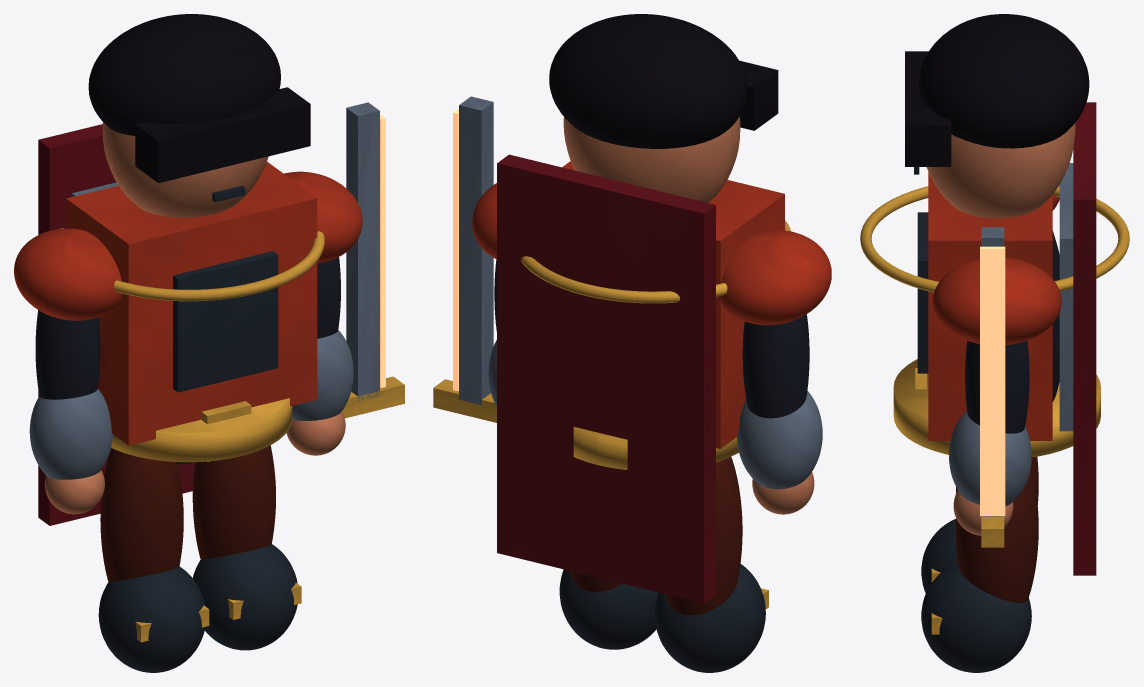
Rendered from Advanced.glb.
The picture shows the model from 3 angles, left to right: view 1: azimuth 30°, elevation 25°; view 2: azimuth 150°, elevation 25°; view 3: azimuth 270°, elevation 25°; orthographic projection. The views are drawn at different scales.
Parts seen in each view (by area): view 1: ChestPlate, Hair, ChestInset, HairFringe, Leg, SwordBlade, Boot, Boot.001, Leg.001, Shoulder, Cape, Head (+12 smaller); view 2: Cape, Hair, SwordBlade, Shoulder, Head, ChestPlate, Boot, Arm, Gauntlet, Boot.001, Leg, ShoulderCrest (+7 smaller); view 3: Hair, ChestPlate, Cape, Head, Boot.001, SwordEdge, Shoulder.001, Leg.001, Gauntlet.001, WaistGuard, BackArmor, HairFringe (+8 smaller).
Boxes of the visible parts, x1,y1,x2,y2 form: ChestPlate: (66,161,317,445); Hair: (88,14,280,135); ChestInset: (173,251,278,392); HairFringe: (135,87,310,183); Leg: (100,448,183,581); SwordBlade: (346,102,379,401); Boot: (98,566,205,672); Boot.001: (193,544,297,650); Leg.001: (192,445,275,559); Shoulder: (14,228,122,320); Cape: (38,124,194,525); Head: (102,122,268,217); Cape: (497,154,715,603); Hair: (549,14,747,148); SwordBlade: (459,96,493,404); Shoulder: (718,230,831,325); Head: (563,116,740,203); ChestPlate: (562,161,784,448); Boot: (654,564,765,672); Arm: (742,314,809,418); Gauntlet: (737,391,822,489); Boot.001: (559,569,658,649); Leg: (664,457,742,615); ShoulderCrest: (521,220,791,303); Hair: (919,14,1089,148); ChestPlate: (928,172,1052,440); Cape: (1073,102,1096,575); Head: (926,123,1075,218); Boot.001: (921,563,1031,672); SwordEdge: (980,246,1005,516); Shoulder.001: (932,257,1061,344); Leg.001: (955,467,1038,603); Gauntlet.001: (949,411,1031,506); WaistGuard: (893,359,1100,457); BackArmor: (1059,163,1073,431); HairFringe: (905,51,951,166).
Size of the model in its own units: 1.86 by 2.96 by 1.17.
Materials: 12 (9 with a texture image).
